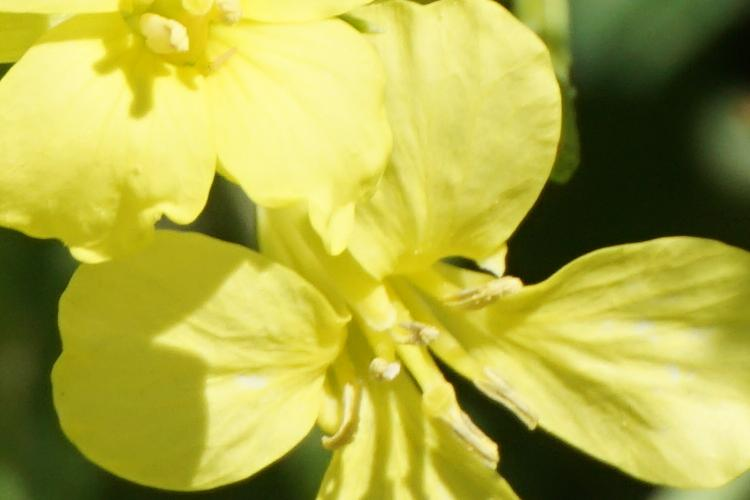yellow: (72, 49, 748, 492), (13, 5, 406, 247)
